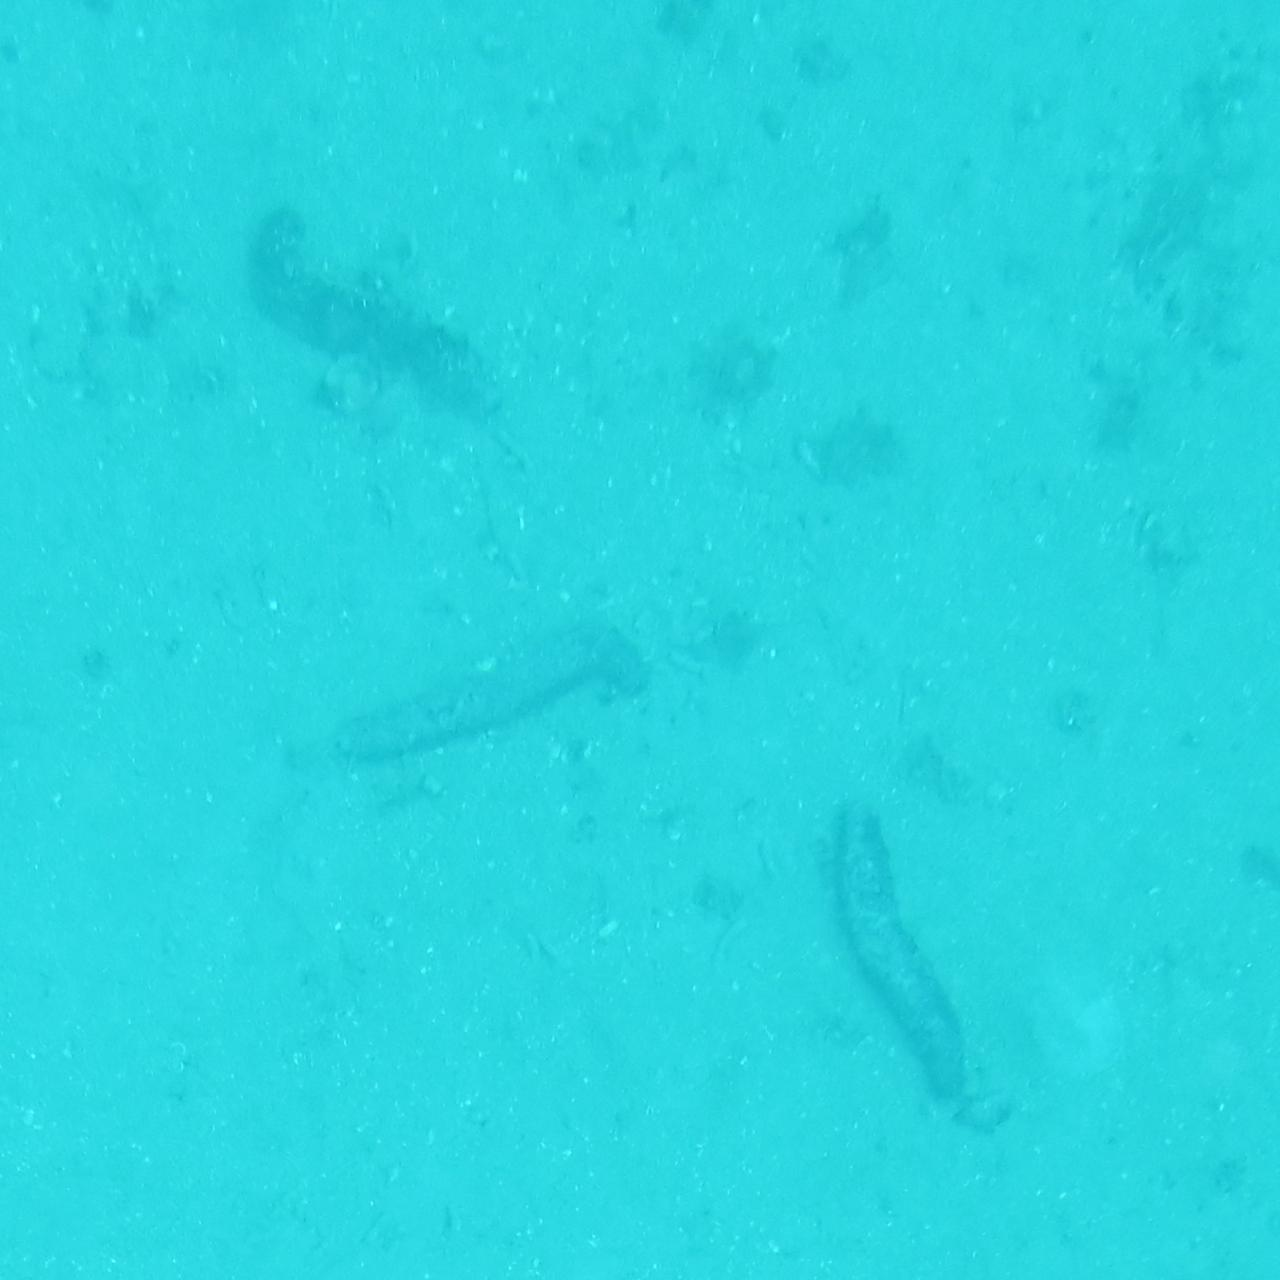Holothuria tubulosa: (243, 188, 517, 433), (298, 613, 652, 798), (817, 776, 982, 1164)
